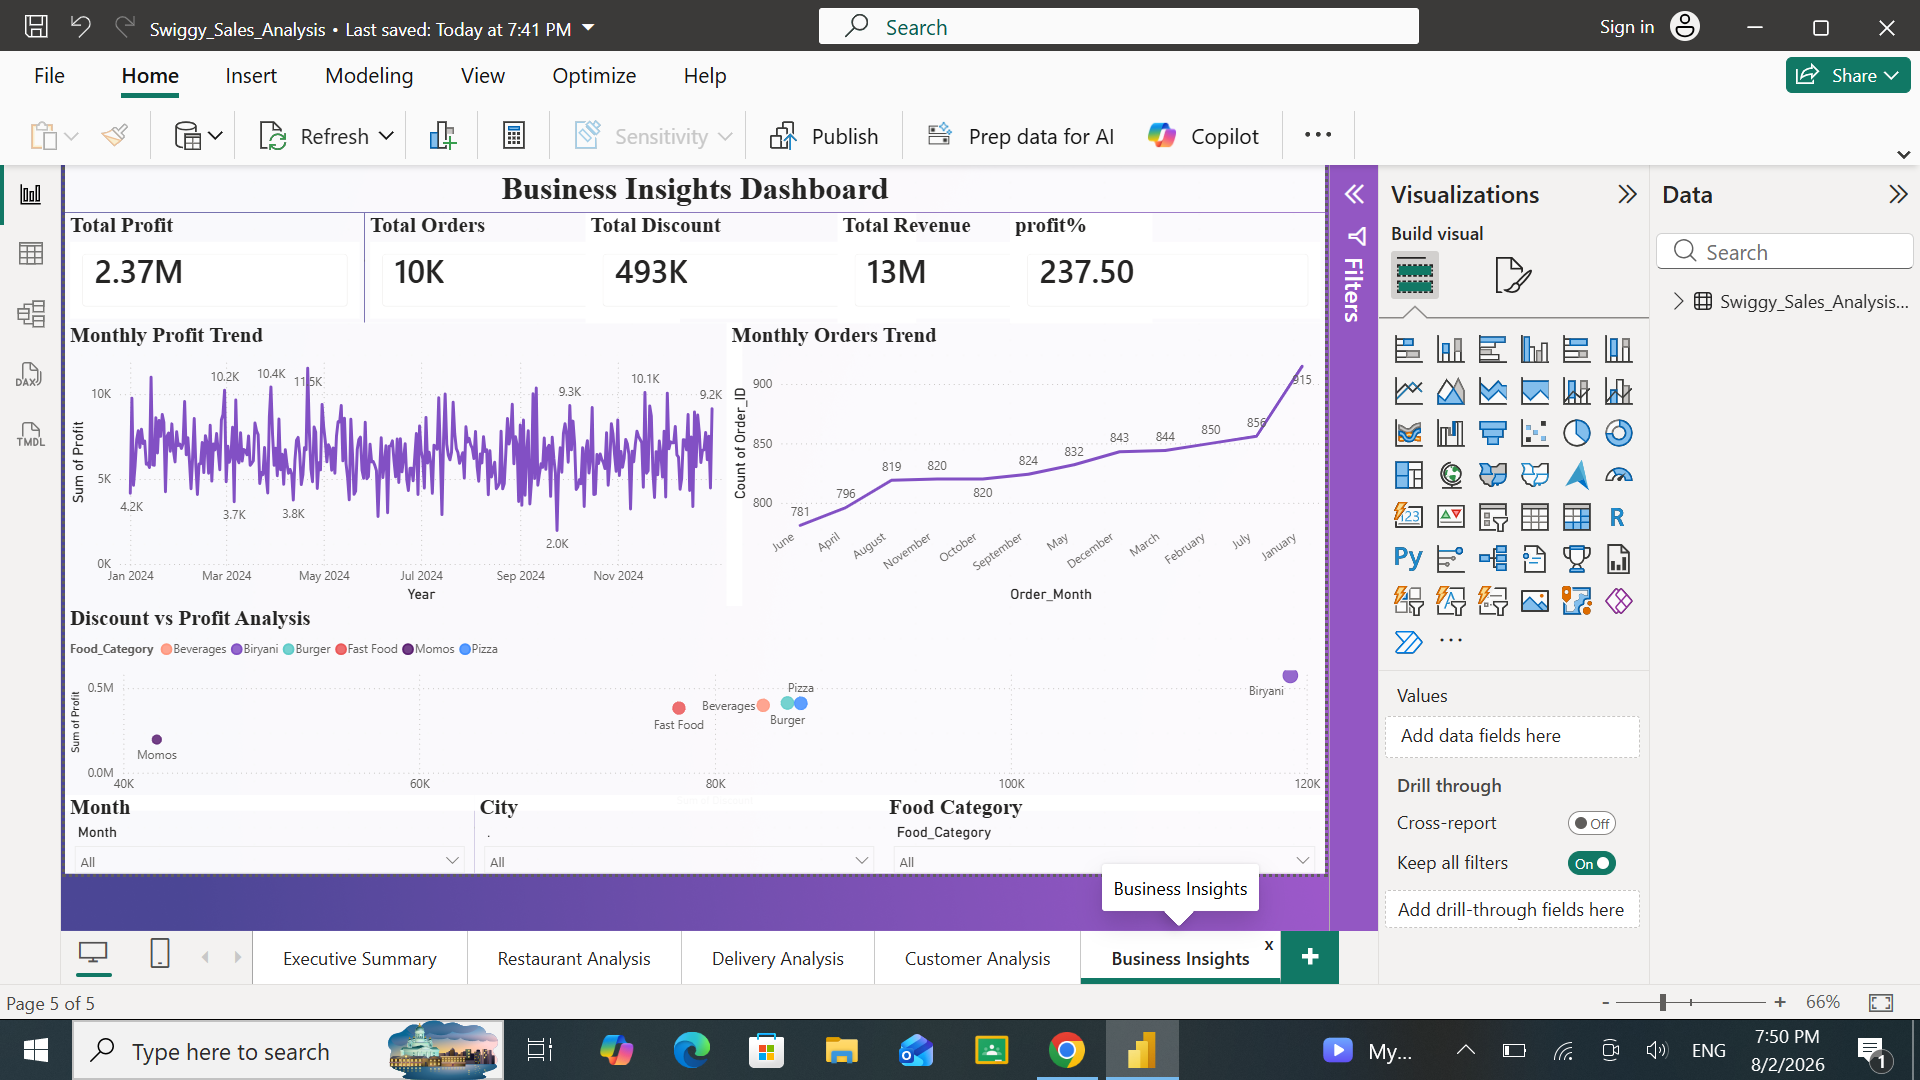

This screenshot's page, from the dashboard's own definition file:
{"tool":"powerbi","page":{"name":"Business Insights","canvas":[1280,720],"ordinal":4},"visuals":[{"type":"textbox","box":[0,0,1280,48],"z":0},{"type":"cardVisual","title":"Total Profit","fields":{"Data":["Sum(Swiggy_Sales_Analysis_Dataset_10000.Profit)"]},"box":[0,48,304,112],"z":1},{"type":"cardVisual","title":"Total Orders","fields":{"Data":["Count(Swiggy_Sales_Analysis_Dataset_10000.Order_ID)"]},"box":[304,48,320,112],"z":2},{"type":"cardVisual","title":"Total Discount","fields":{"Data":["Sum(Swiggy_Sales_Analysis_Dataset_10000.Discount)"]},"box":[528,48,336,112],"z":3},{"type":"cardVisual","title":"Total Revenue","fields":{"Data":["Sum(Swiggy_Sales_Analysis_Dataset_10000.Order_Value)"]},"box":[784,48,320,112],"z":4},{"type":"lineChart","title":"Monthly Profit Trend","fields":{"Y":["Sum(Swiggy_Sales_Analysis_Dataset_10000.Profit)"],"Category":["Swiggy_Sales_Analysis_Dataset_10000.Order_Date.Variation.Date Hierarchy.Year","Swiggy_Sales_Analysis_Dataset_10000.Order_Date.Variation.Date Hierarchy.Quarter","Swiggy_Sales_Analysis_Dataset_10000.Order_Date.Variation.Date Hierarchy.Month","Swiggy_Sales_Analysis_Dataset_10000.Order_Date.Variation.Date Hierarchy.Day"]},"box":[0,160,688,288],"z":5},{"type":"lineChart","title":"Monthly Orders Trend","fields":{"Y":["CountNonNull(Swiggy_Sales_Analysis_Dataset_10000.Order_ID)"],"Category":["Swiggy_Sales_Analysis_Dataset_10000.Order_Month"]},"box":[672,160,608,288],"z":6},{"type":"scatterChart","title":"Discount vs Profit Analysis","fields":{"X":["Sum(Swiggy_Sales_Analysis_Dataset_10000.Discount)"],"Y":["Sum(Swiggy_Sales_Analysis_Dataset_10000.Profit)"],"Series":["Swiggy_Sales_Analysis_Dataset_10000.Food_Category"],"Size":["Sum(Swiggy_Sales_Analysis_Dataset_10000.Order_Value)"]},"box":[0,448,1280,208],"z":7},{"type":"cardVisual","title":"profit%","fields":{"Data":["Avg(Swiggy_Sales_Analysis_Dataset_10000.Profit)"]},"box":[960,48,320,112],"z":8},{"type":"slicer","title":"Month","fields":{"Values":["Swiggy_Sales_Analysis_Dataset_10000.Order_Date.Variation.Date Hierarchy.Month"]},"box":[0,640,416,80],"z":9},{"type":"slicer","title":"City","fields":{"Values":["Swiggy_Sales_Analysis_Dataset_10000.City"]},"box":[416,640,416,80],"z":10},{"type":"slicer","title":"Food Category","fields":{"Values":["Swiggy_Sales_Analysis_Dataset_10000.Food_Category"]},"box":[832,640,448,80],"z":11}]}

Visuals, with their boxes on the page's 1280x720 design canvas (x1, y1, x2, y2). These are canvas units, not pixel positions in the 1920x1080 screenshot, which may show the page scaled, cropped or inside an application window:
textbox: rect(0, 0, 1280, 48)
"Total Profit" cardVisual: rect(0, 48, 304, 160)
"Total Orders" cardVisual: rect(304, 48, 624, 160)
"Total Discount" cardVisual: rect(528, 48, 864, 160)
"Total Revenue" cardVisual: rect(784, 48, 1104, 160)
"Monthly Profit Trend" lineChart: rect(0, 160, 688, 448)
"Monthly Orders Trend" lineChart: rect(672, 160, 1280, 448)
"Discount vs Profit Analysis" scatterChart: rect(0, 448, 1280, 656)
"profit%" cardVisual: rect(960, 48, 1280, 160)
"Month" slicer: rect(0, 640, 416, 720)
"City" slicer: rect(416, 640, 832, 720)
"Food Category" slicer: rect(832, 640, 1280, 720)
